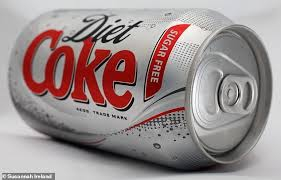can: (6, 4, 274, 172)
